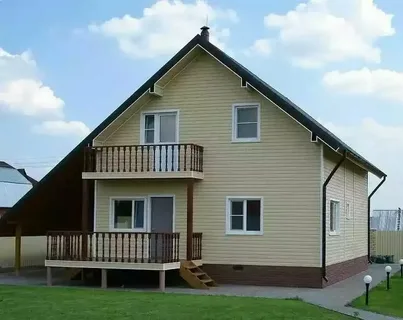private_hause: (83, 47, 339, 276)
